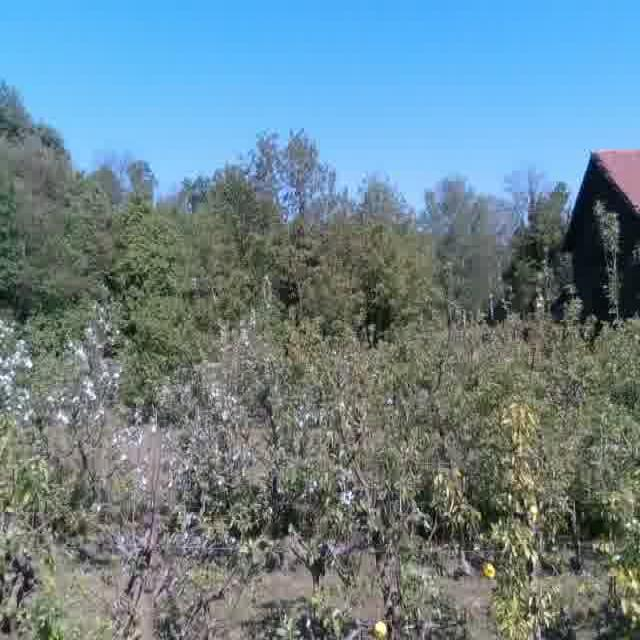yellow: (480, 558, 499, 583), (372, 618, 390, 640)
